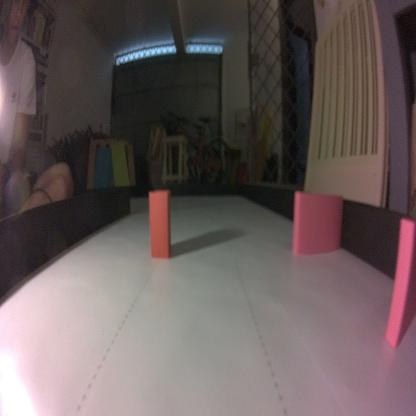magenta: (384, 213, 415, 351), (290, 188, 344, 259)
red: (147, 183, 173, 263)
